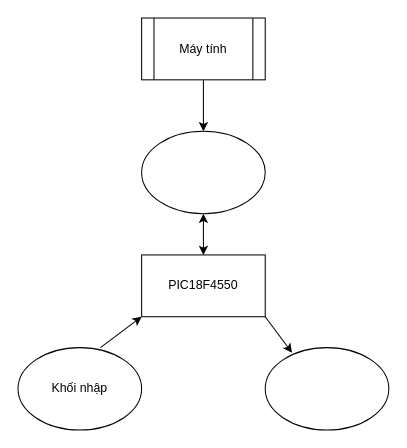
The diagram is 407 pixels wide and 448 high, and some of its shapes have lost their labels. Each missing label, with the box of its shape:
Khối giao tiếp Module USR-TCP232-T2: (141, 130, 265, 214)
Khối xuất: (264, 347, 389, 430)
